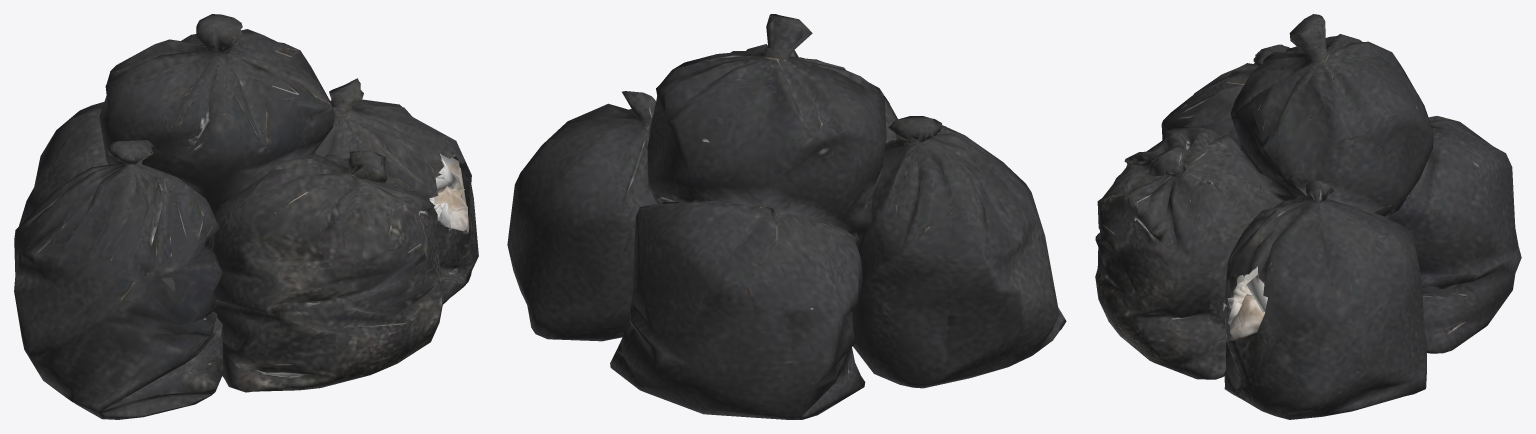
The model's file is p7-trash-bag-pile-t25.glb.
3 views of the same model, side by side, from view 1: azimuth 30°, elevation 25°; view 2: azimuth 150°, elevation 25°; view 3: azimuth 270°, elevation 25° (orthographic). The views are drawn at different scales.
Parts seen in each view (by area): view 1: p7-trash-bag-pile-t25; view 2: p7-trash-bag-pile-t25; view 3: p7-trash-bag-pile-t25.
Boxes of the visible parts, bbox=[...] form: p7-trash-bag-pile-t25: bbox=[14, 14, 478, 419]; p7-trash-bag-pile-t25: bbox=[507, 14, 1066, 419]; p7-trash-bag-pile-t25: bbox=[1095, 14, 1521, 419].
Bounding box in the file's own units: 1 × 0.6 × 0.8.
Materials: 1 (1 with a texture image).
